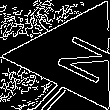N_NW: (36, 26, 109, 85)
